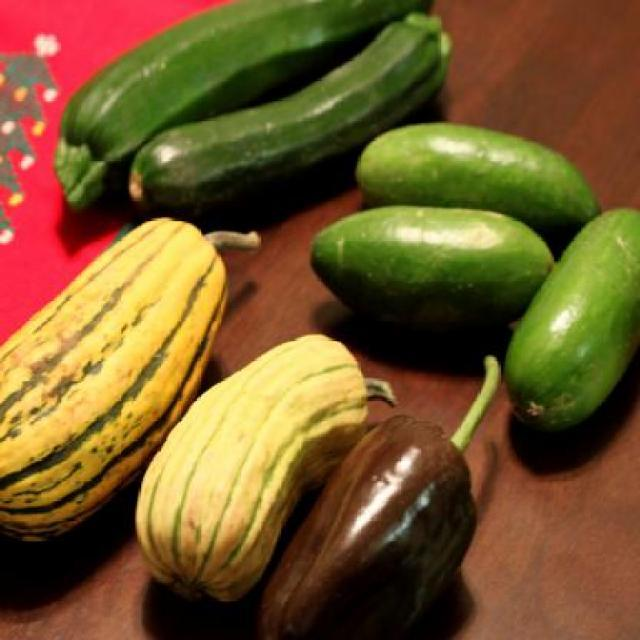Zucchini: (49, 0, 433, 212), (501, 204, 640, 438), (353, 119, 604, 238), (308, 201, 556, 304)
